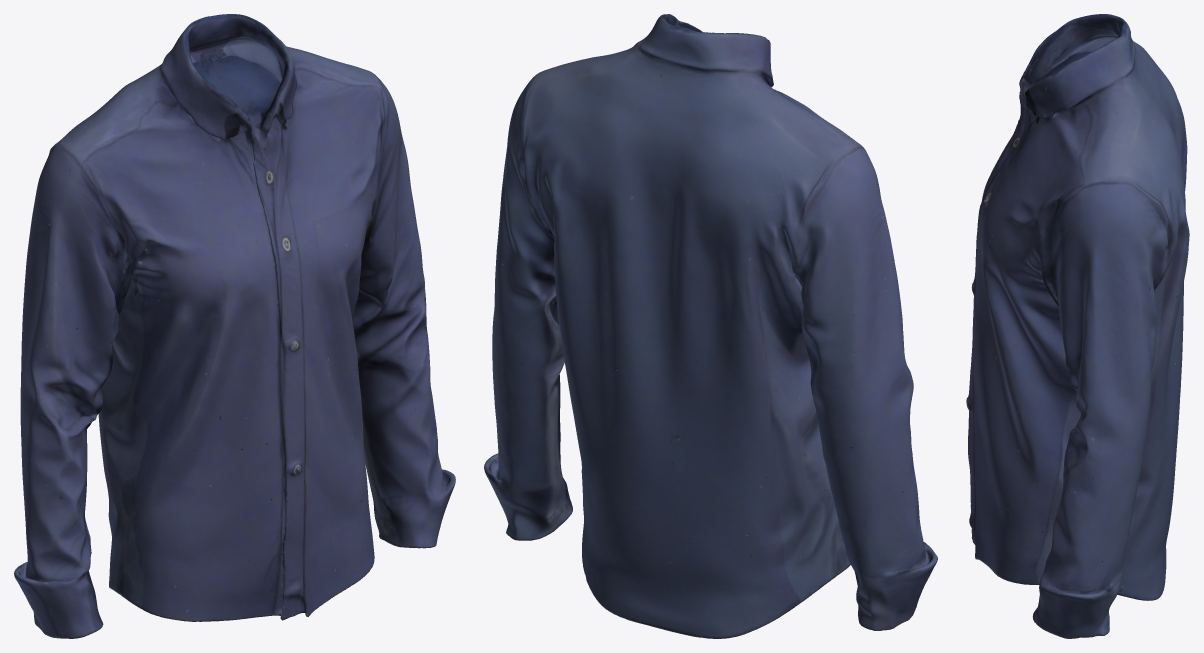
File: Blue_Elegance_1213055137_texture.glb
3 views of the same model, side by side, from view 1: azimuth 30°, elevation 25°; view 2: azimuth 150°, elevation 25°; view 3: azimuth 270°, elevation 25° (orthographic). The views are drawn at different scales.
Size of the model in its own units: 1.58 by 2 by 0.7384.
1 material, 1 textured.
